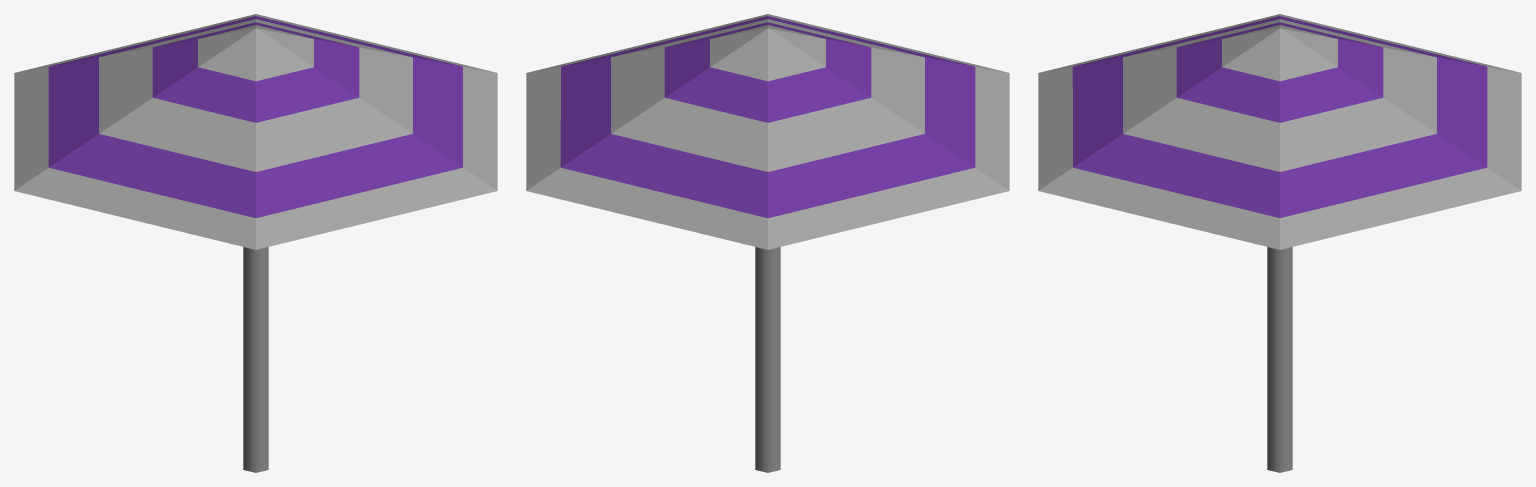
File: caffe_umbrella_v2.fbx
The picture shows the model from 3 angles, left to right: view 1: azimuth 30°, elevation 25°; view 2: azimuth 150°, elevation 25°; view 3: azimuth 270°, elevation 25°; orthographic projection.
Visible parts, largest first — view 1: caffe_umbrella_v2; view 2: caffe_umbrella_v2; view 3: caffe_umbrella_v2.
Part boxes in pixels (x1,y1,x2,y2): caffe_umbrella_v2: (14, 14, 497, 472); caffe_umbrella_v2: (526, 14, 1009, 472); caffe_umbrella_v2: (1038, 14, 1521, 472).
Size of the model in its own units: 238 by 206 by 206.
